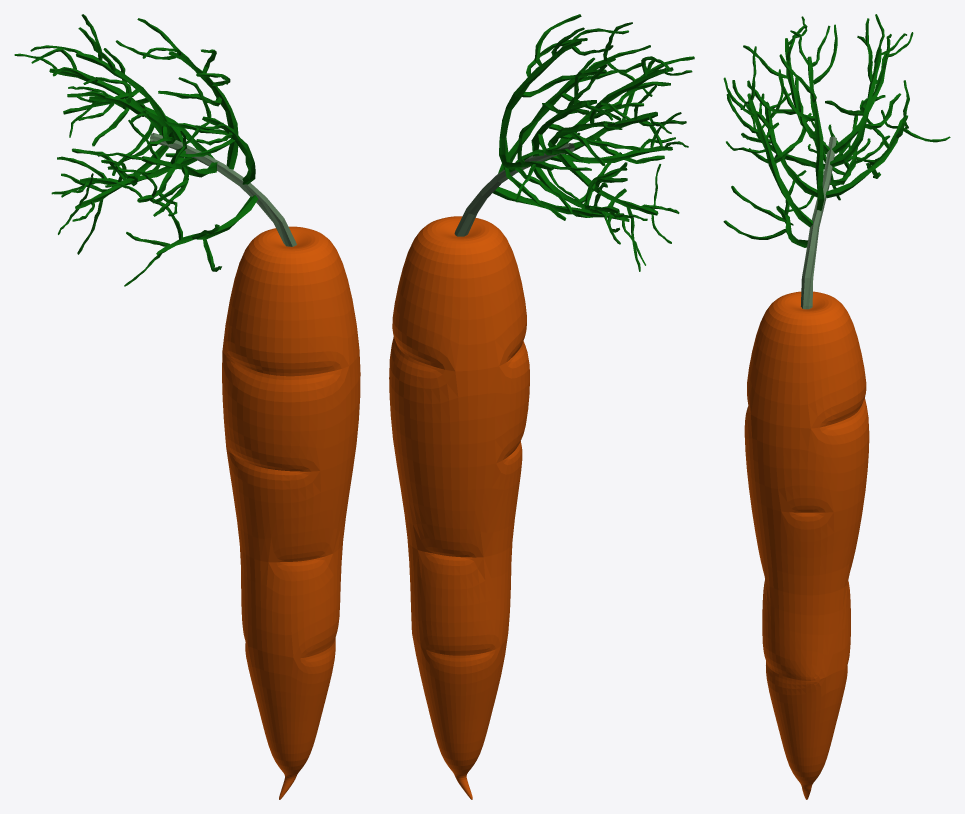
File: carrot.obj
3 renders of one model, left to right at view 1: azimuth 30°, elevation 25°; view 2: azimuth 150°, elevation 25°; view 3: azimuth 270°, elevation 25°, orthographic. The views are drawn at different scales.
Visible parts, largest first — view 1: Cylinder01, Foliage01; view 2: Cylinder01, Foliage01; view 3: Cylinder01, Foliage01.
Boxes of the visible parts, box(x1,y1,x2,y2) form: Cylinder01: box(222, 226, 360, 799); Foliage01: box(14, 14, 296, 286); Cylinder01: box(389, 216, 529, 799); Foliage01: box(454, 14, 694, 271); Cylinder01: box(744, 291, 869, 799); Foliage01: box(723, 14, 950, 309).
Bounding box in the file's own units: 113 × 303 × 86.62.
